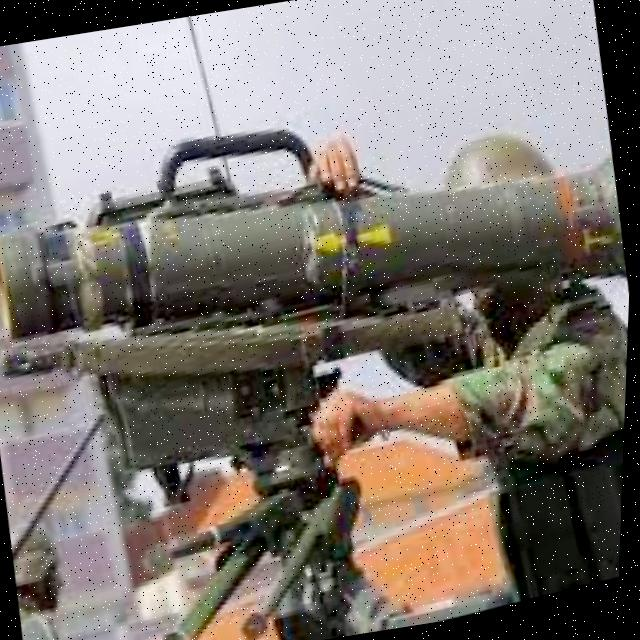rocket: (0, 78, 638, 420)
